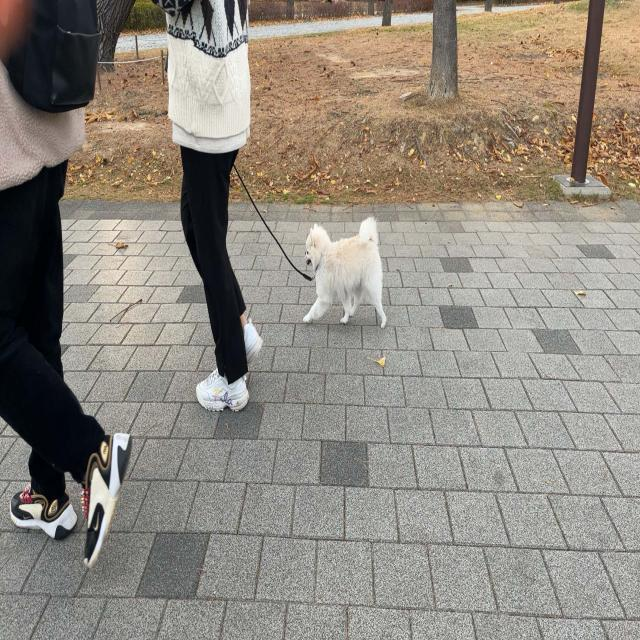Leashed_Dog: (211, 161, 387, 329)
